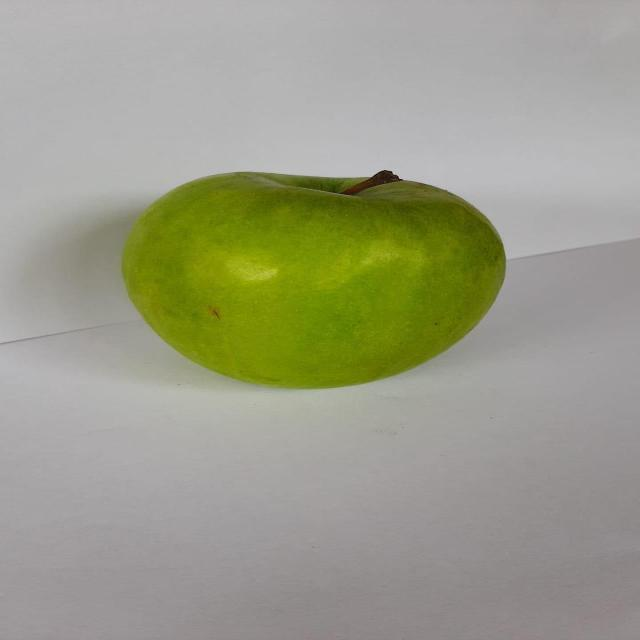Rotten Apple: (106, 155, 536, 401)
